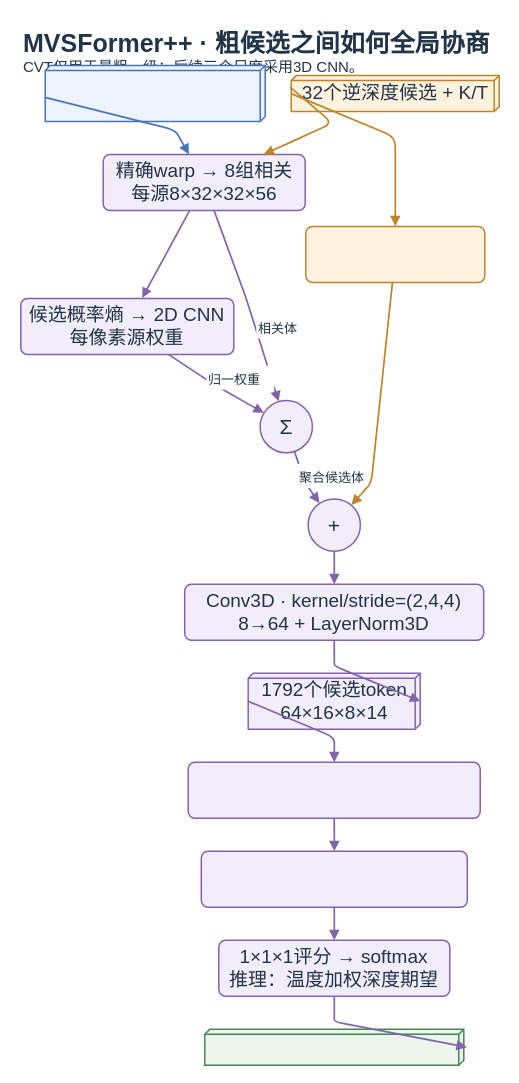
Some shapes in this 519 by 1083 pixel diagram are drawn without their labels. Each missing label, with the centre of its shape:
6层候选体Transformer 64维 / 4头 / 全局softmax注意力: the point at 333,789
ConvTranspose3D · (2,4,4) 64→8，恢复候选网格: the point at 334,879
FMT增强的参考/源特征 64维，32×56: the point at 154,93
粗深度 → 下一尺度局部采样: the point at 334,1047
视锥3D位置归一化 正弦编码 + 投影: the point at 395,254
